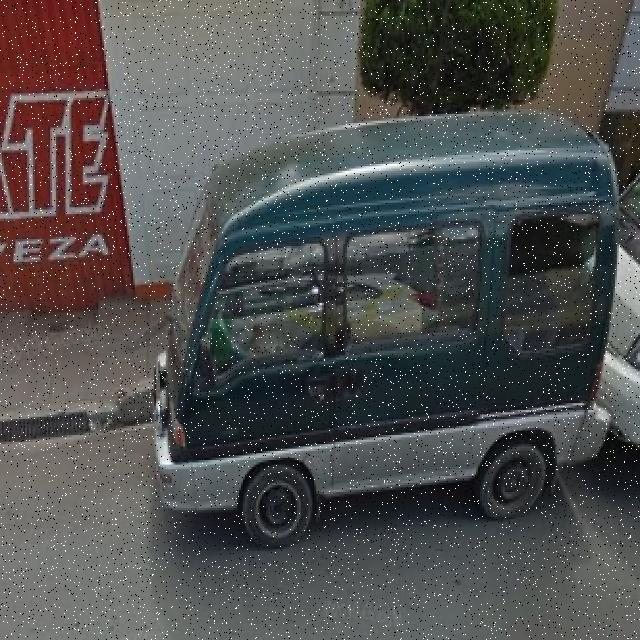cars: (151, 119, 624, 556)
